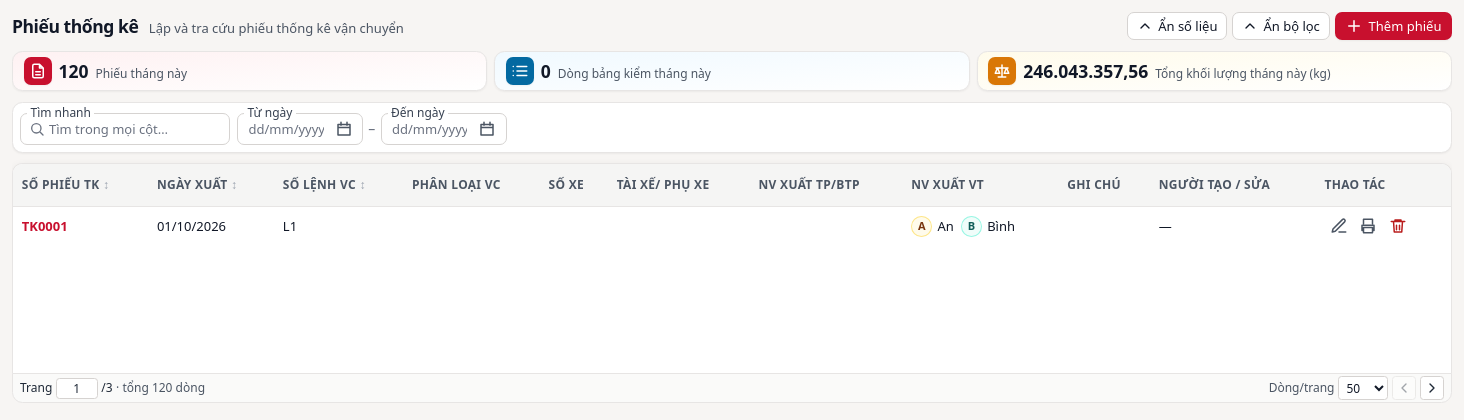
PlansPage › cache: sang trang đã prefetch và quay lại trang đã xem hiện ngay, không gọi lại server
Click the button with test id "page-next".
click(1432, 388)  # box x1=1420 y1=376 x2=1444 y2=400
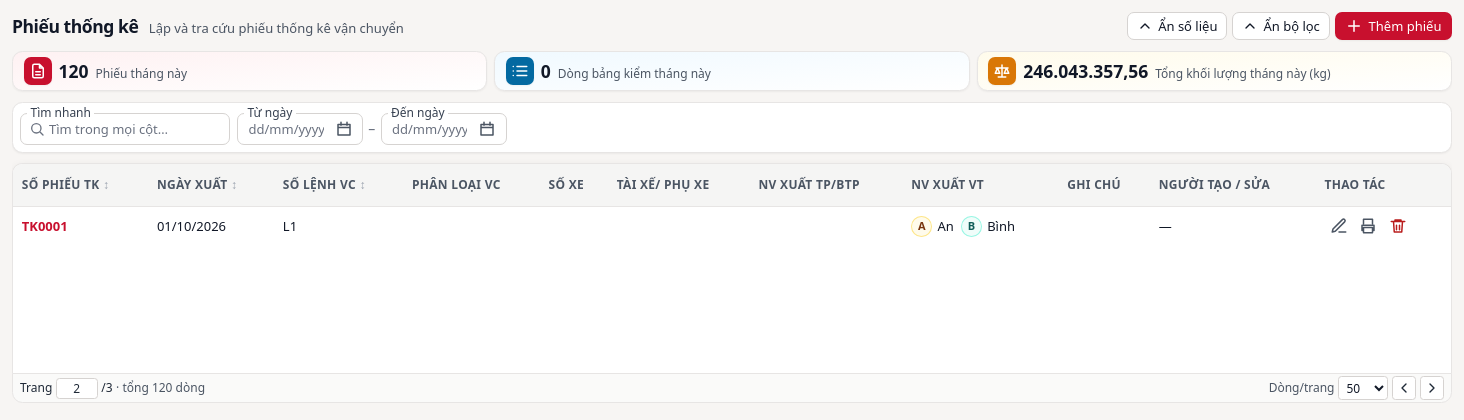
Result: the field with test id "page-input" holds "2" at x1=56 y1=378 x2=98 y2=398
Click the button with test id "page-prev".
click(1404, 388)  # box x1=1392 y1=376 x2=1416 y2=400
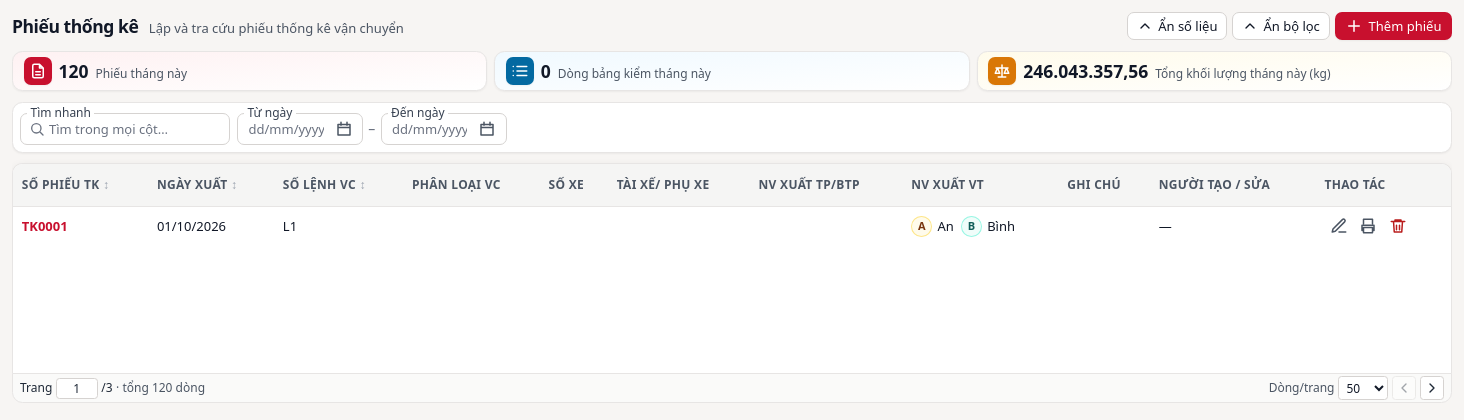
Result: the field with test id "page-input" holds "1" at x1=56 y1=378 x2=98 y2=398
